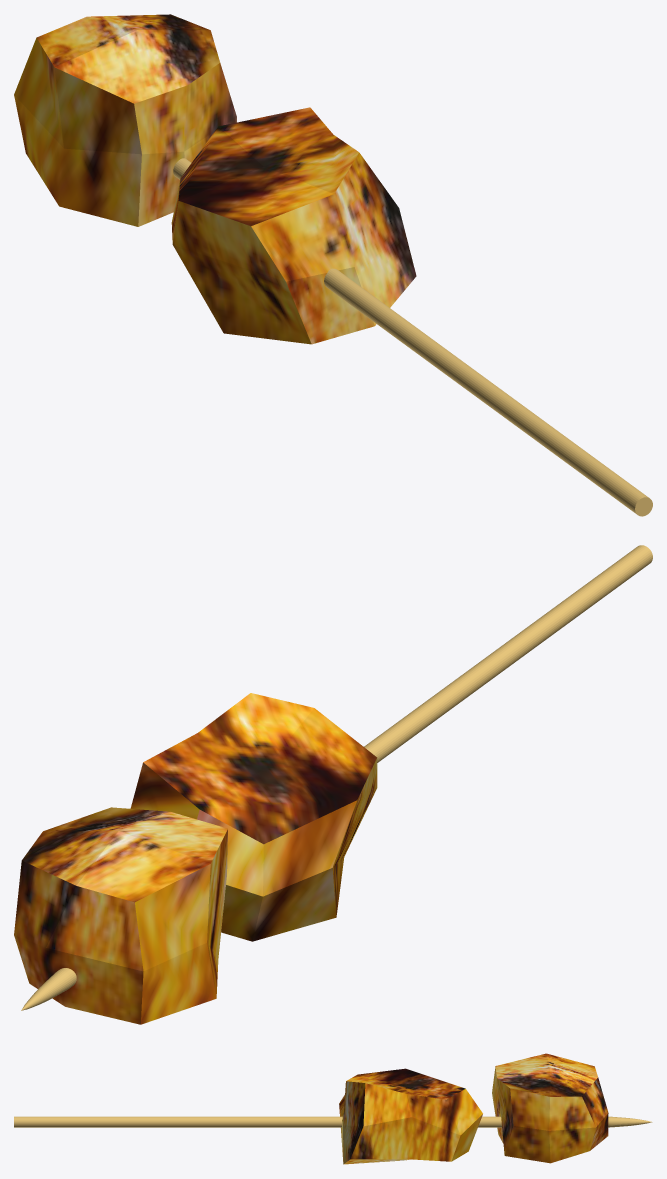
File: chickensatay2.fbx
The picture shows the model from 3 angles, top to bottom: view 1: azimuth 30°, elevation 25°; view 2: azimuth 150°, elevation 25°; view 3: azimuth 270°, elevation 25°; orthographic projection. The views are drawn at different scales.
Visible parts, largest first — view 1: Csatay2piecejoined; view 2: Csatay2piecejoined; view 3: Csatay2piecejoined.
Part boxes in pixels (left/top/right/bottom): Csatay2piecejoined: left=14, top=14, right=652, bottom=516; Csatay2piecejoined: left=14, top=545, right=652, bottom=1024; Csatay2piecejoined: left=14, top=1053, right=652, bottom=1164.
Bounding box in the file's own units: 148 × 132 × 814.
2 materials, 1 textured.
